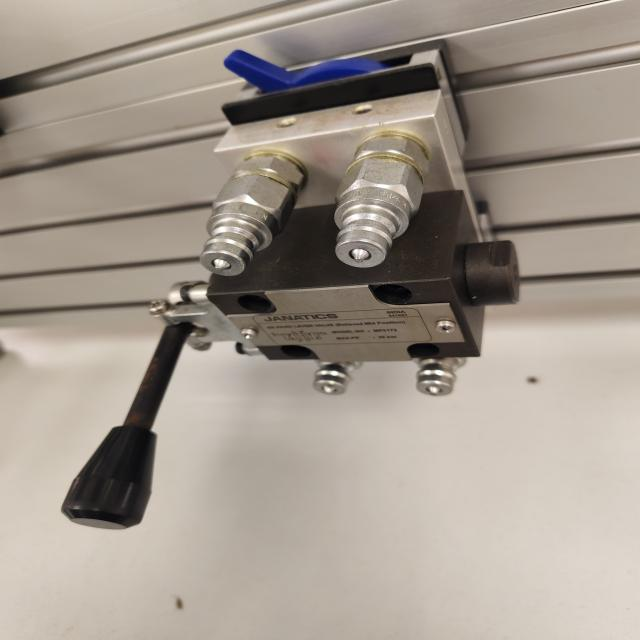4by3 hand lever valve: (40, 27, 532, 541)
